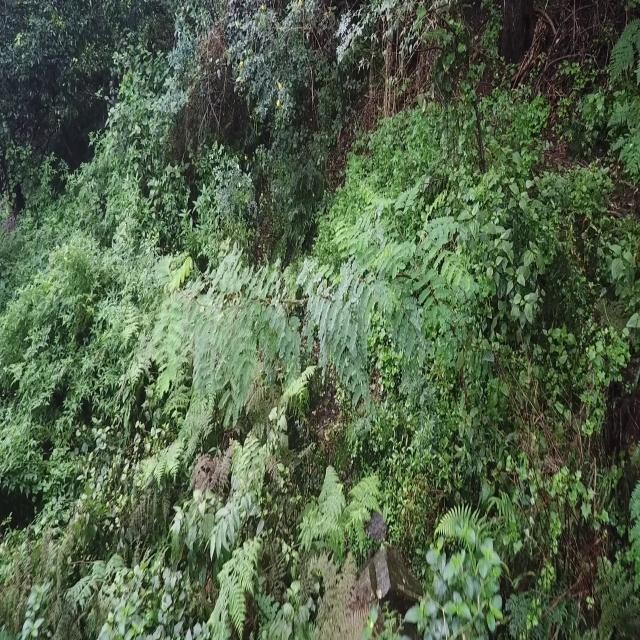Mysore-Thorn-Weed: (134, 232, 462, 378)
